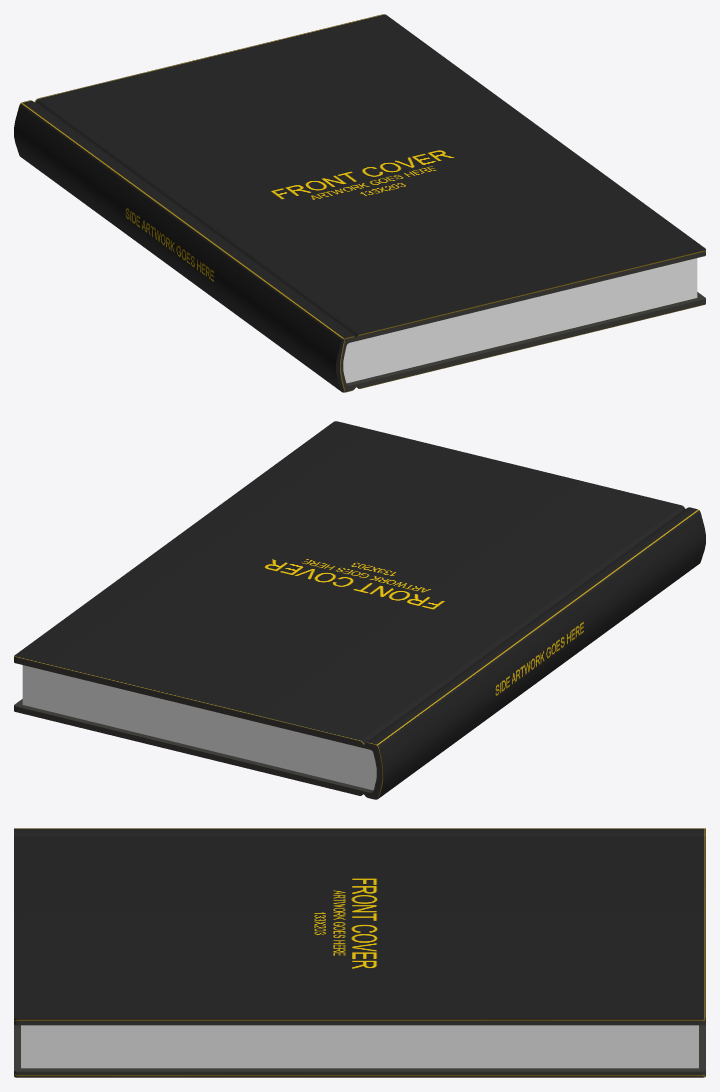
The model's file is BookMD.glb.
The picture shows the model from 3 angles, top to bottom: view 1: azimuth 30°, elevation 25°; view 2: azimuth 150°, elevation 25°; view 3: azimuth 270°, elevation 25°; orthographic projection. The views are drawn at different scales.
Visible parts, largest first — view 1: Book_133x203; view 2: Book_133x203; view 3: Book_133x203.
Part boxes in pixels (x1,y1,x2,y2): Book_133x203: (14, 14, 705, 392); Book_133x203: (14, 421, 705, 799); Book_133x203: (14, 828, 705, 1077).
Size of the model in its own units: 0.138 by 0.0195 by 0.2075.
Materials: 2 (1 with a texture image).
